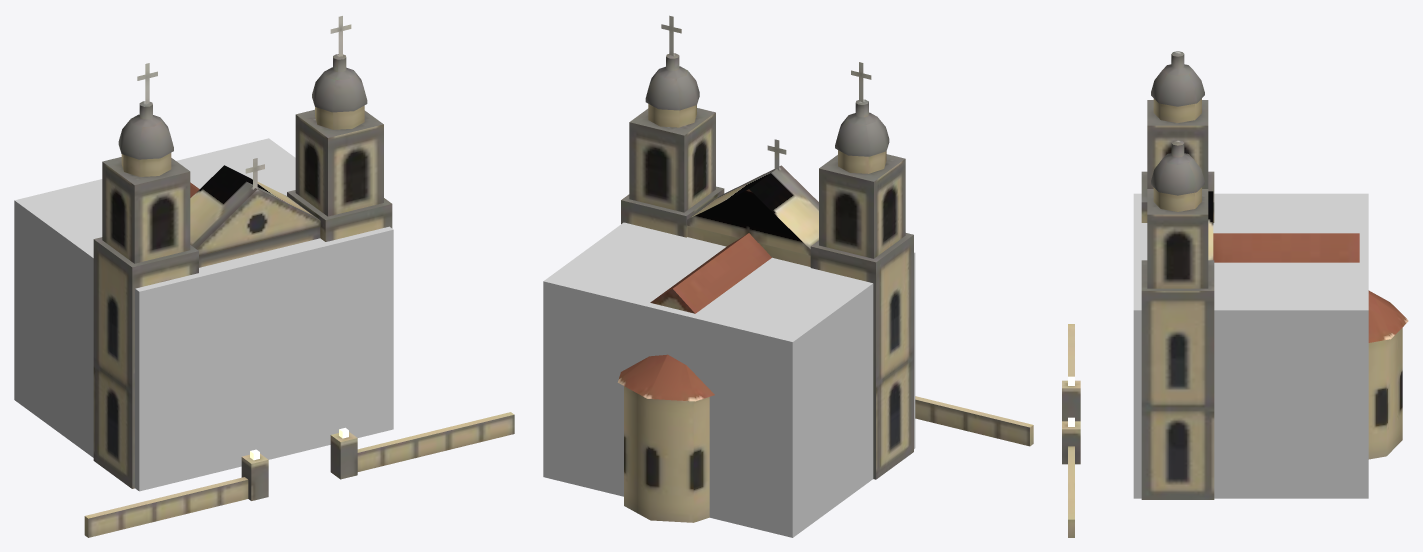
Rendered from st_josephs_cathedral.glb.
3 renders of one model, left to right at view 1: azimuth 30°, elevation 25°; view 2: azimuth 150°, elevation 25°; view 3: azimuth 270°, elevation 25°, orthographic. The views are drawn at different scales.
Visible parts, largest first — view 1: COL_sj, st_josephs_cathedral_body; view 2: COL_sj, st_josephs_cathedral_body; view 3: COL_sj, st_josephs_cathedral_body.
Boxes of the visible parts, x1=… form: COL_sj: x1=14, y1=138, x2=393, y2=491; st_josephs_cathedral_body: x1=84, y1=16, x2=514, y2=537; COL_sj: x1=543, y1=222, x2=915, y2=537; st_josephs_cathedral_body: x1=617, y1=15, x2=1033, y2=522; COL_sj: x1=1133, y1=193, x2=1368, y2=498; st_josephs_cathedral_body: x1=1062, y1=51, x2=1408, y2=537.
Size of the model in its own units: 67 by 60.72 by 50.15.
2 materials, 1 textured.
